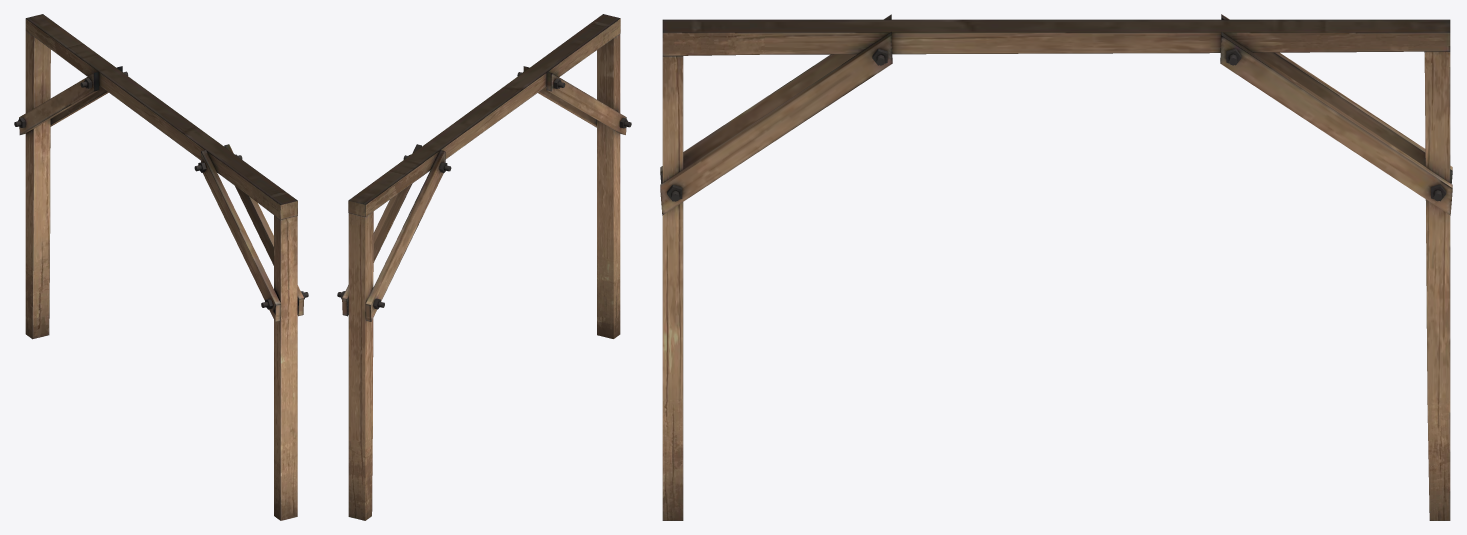
3 renders of one model, left to right at view 1: azimuth 30°, elevation 25°; view 2: azimuth 150°, elevation 25°; view 3: azimuth 270°, elevation 25°, orthographic. The views are drawn at different scales.
Parts seen in each view (by area): view 1: body0_model0_lod0_mesh0; view 2: body0_model0_lod0_mesh0; view 3: body0_model0_lod0_mesh0.
Part boxes in pixels (x1,y1,x2,y2): body0_model0_lod0_mesh0: (14,14,308,520); body0_model0_lod0_mesh0: (337,14,631,520); body0_model0_lod0_mesh0: (660,14,1452,520).
Bounding box in the file's own units: 31.1 × 209 × 306.
Materials: 1 (1 with a texture image).
